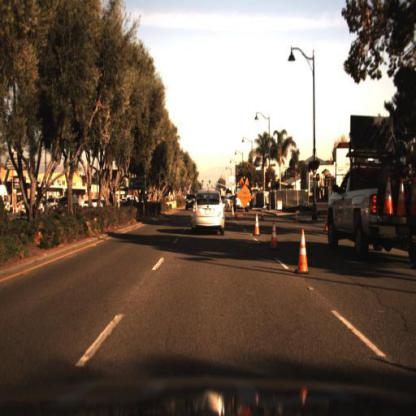car: (327, 162, 416, 261), (189, 187, 224, 237)
